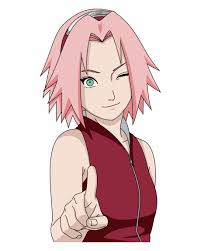sakura: (59, 8, 138, 122)
